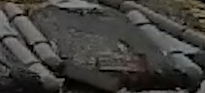bag: (14, 4, 185, 79)
